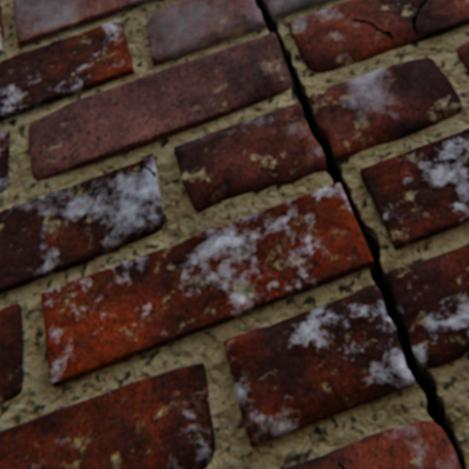brick: (42, 183, 373, 385), (30, 33, 289, 180), (0, 362, 215, 468), (0, 157, 164, 293), (0, 20, 134, 121), (360, 128, 468, 249), (289, 0, 468, 73), (279, 419, 459, 468), (15, 0, 158, 46), (0, 303, 24, 403), (0, 130, 11, 192), (456, 42, 468, 72), (0, 4, 5, 55)
broken_brick: (224, 284, 413, 445), (175, 103, 325, 211), (309, 59, 461, 160), (385, 242, 468, 366), (148, 0, 266, 65), (264, 0, 333, 19)
crack: (255, 0, 468, 468), (353, 19, 393, 39), (411, 0, 426, 34), (78, 202, 94, 230), (141, 159, 156, 176), (96, 185, 105, 200), (110, 169, 117, 180), (338, 460, 345, 468)
